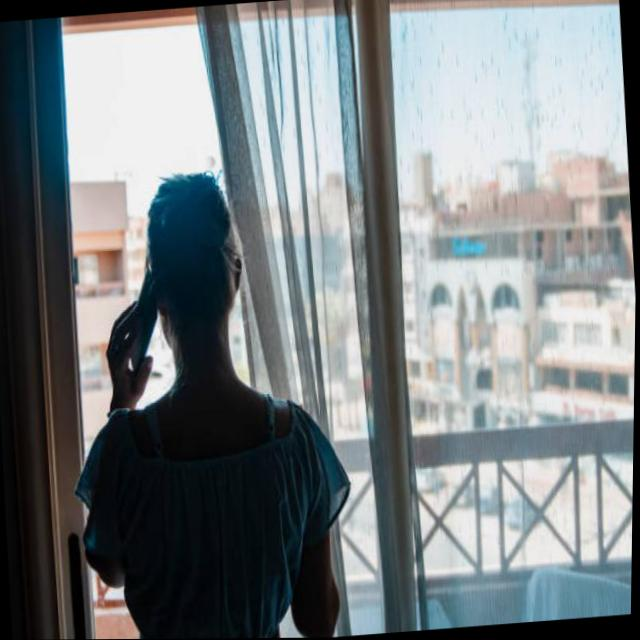no helmet: (142, 157, 248, 412)
